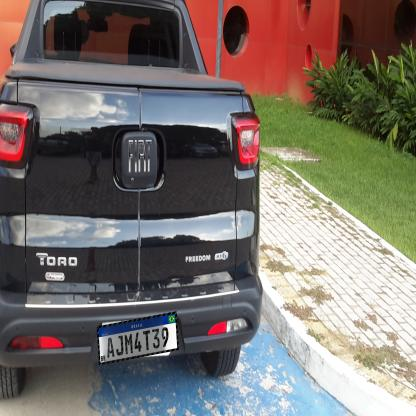PlacaM: (97, 311, 179, 365)
